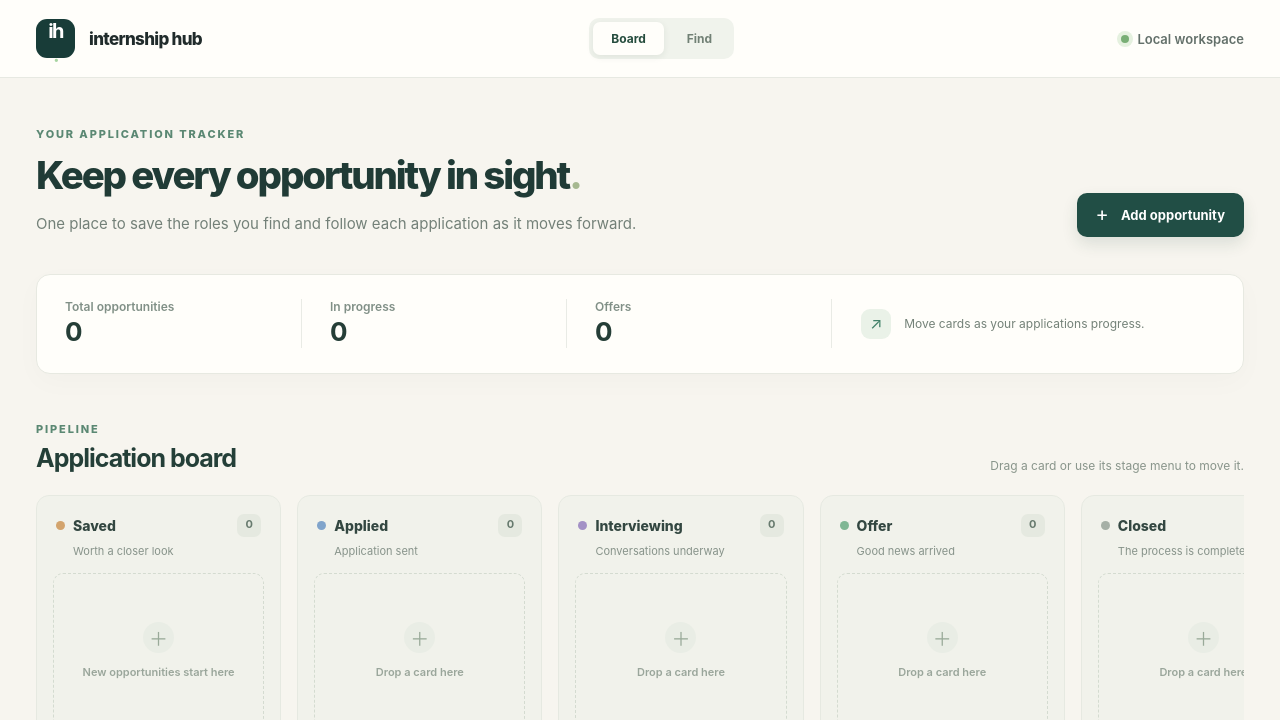
Test: allows manual entry when Greenhouse lookup fails
Click the button "Find" at (699, 38), box [669,22,730,55]
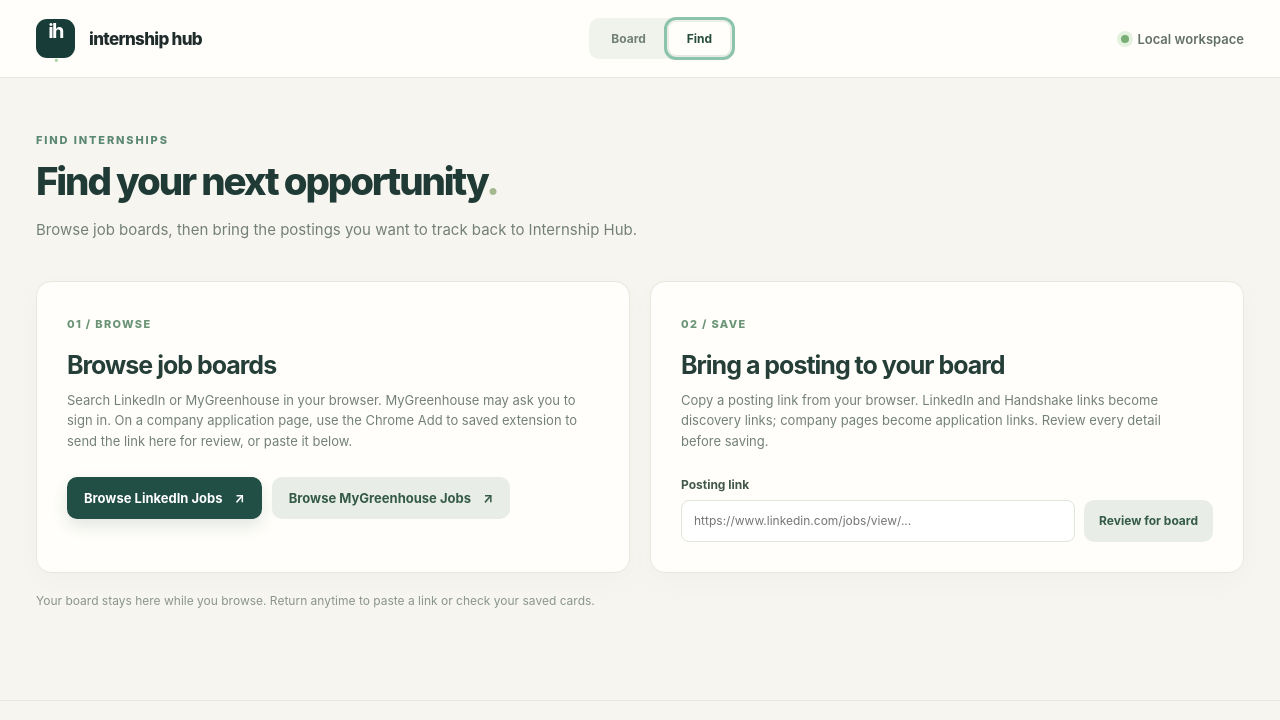
Type "https://boards.greenhouse.io/example/jobs/123" into the field labelled "Posting link" at (878, 521), box [681,500,1075,542]
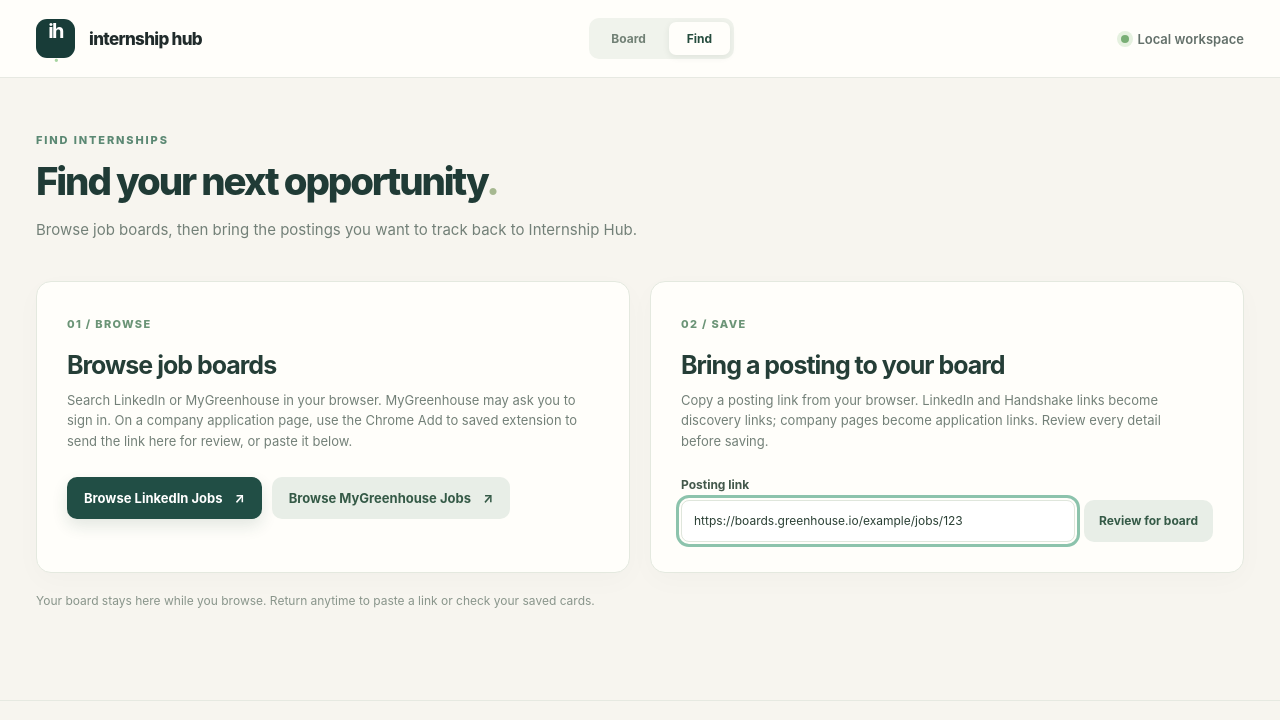
Click the button "Review for board" at (1149, 521), box [1084,500,1213,542]
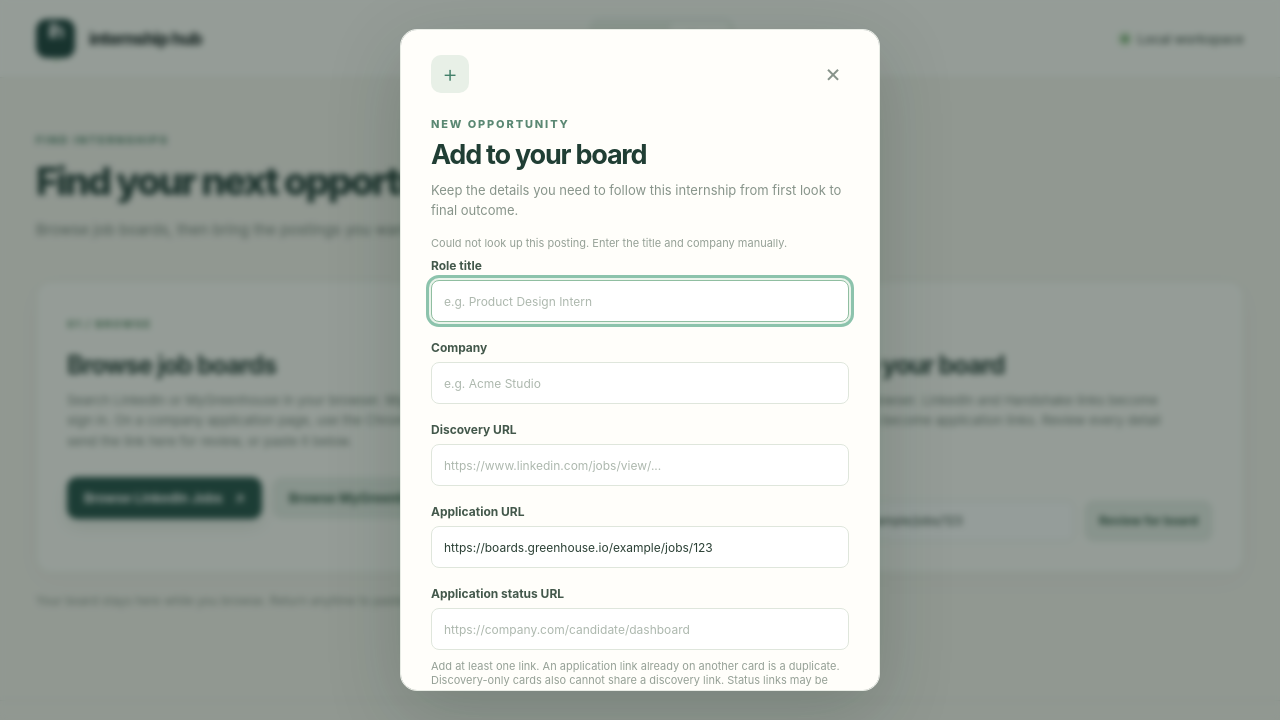
Result: the text "Could not look up this posting. Enter the title and company manually." is shown at [431,236,849,250]
Result: the field labelled "Role title" is empty at [431,280,849,322]
Result: the field labelled "Company" is empty at [431,362,849,404]
